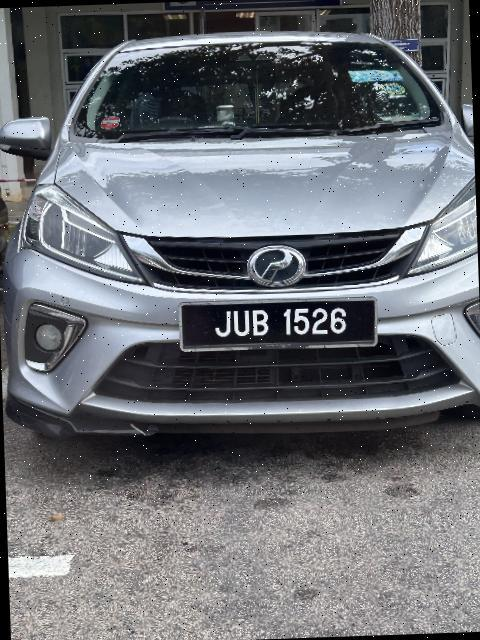JUB1526: (176, 292, 385, 362)
License_Plate: (176, 292, 385, 362)
car: (1, 23, 480, 452)
